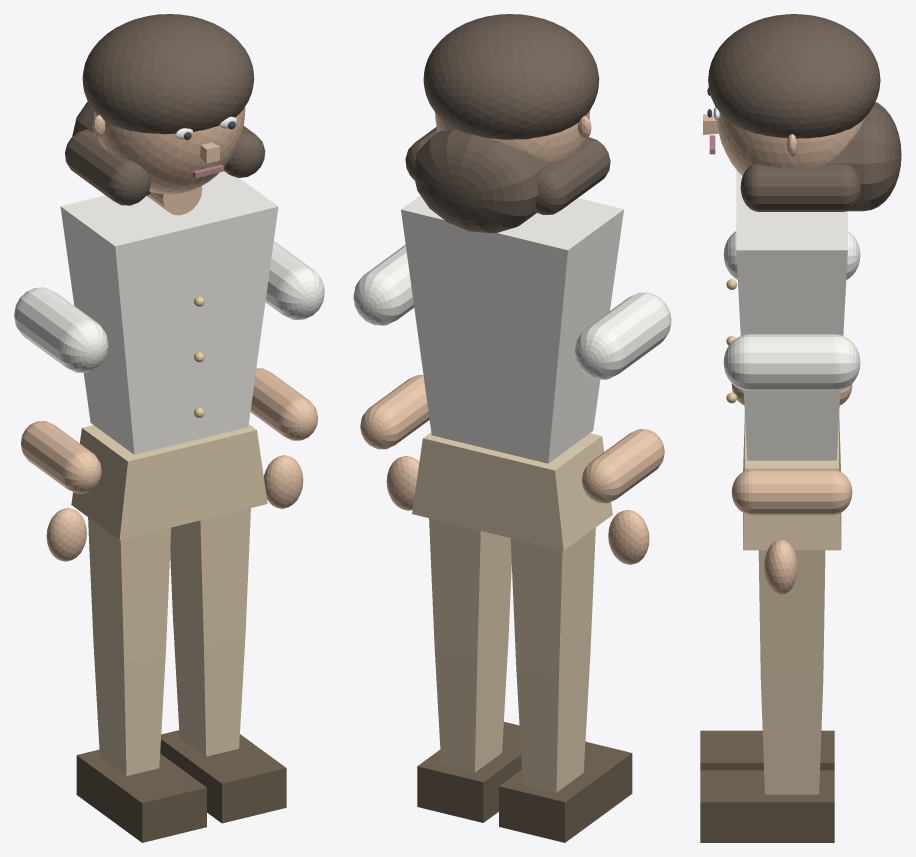
The model's file is npc_exec_female.glb.
The picture shows the model from 3 angles, left to right: view 1: azimuth 30°, elevation 25°; view 2: azimuth 150°, elevation 25°; view 3: azimuth 270°, elevation 25°; orthographic projection. The views are drawn at different scales.
Visible parts, largest first — view 1: Torso, Hair, Hips, Thigh_L, Thigh_R, Shoe_L, Calf_L, Calf_R, Shoe_R, Head, Arm_L_Mesh, Forearm_L_Mesh (+7 smaller); view 2: Torso, Hair, Hips, HairBack, Thigh_L, Thigh_R, Calf_R, Calf_L, Shoe_L, Arm_L_Mesh, Shoe_R, Forearm_L_Mesh (+6 smaller); view 3: Torso, Hair, Shoe_R, Thigh_R, Arm_R_Mesh, Calf_R, HairSideR, Forearm_R_Mesh, Hips, HairBack, Head, Shoe_L (+2 smaller).
Part boxes in pixels (x1,y1,x2,y2): Torso: [60, 171, 278, 454]; Hair: [82, 14, 254, 134]; Hips: [71, 424, 267, 539]; Thigh_L: [88, 517, 171, 663]; Thigh_R: [170, 508, 250, 643]; Shoe_L: [76, 749, 206, 842]; Calf_L: [93, 641, 165, 775]; Calf_R: [173, 622, 245, 756]; Shoe_R: [160, 730, 286, 823]; Head: [94, 107, 245, 194]; Arm_L_Mesh: [14, 287, 108, 372]; Forearm_L_Mesh: [21, 421, 101, 493]; Torso: [401, 195, 623, 463]; Hair: [423, 14, 599, 139]; Hips: [412, 432, 612, 550]; HairBack: [413, 130, 551, 233]; Thigh_L: [510, 527, 595, 677]; Thigh_R: [429, 518, 511, 657]; Calf_R: [434, 635, 508, 772]; Calf_L: [516, 655, 590, 792]; Shoe_L: [499, 741, 632, 842]; Arm_L_Mesh: [575, 292, 671, 379]; Shoe_R: [417, 722, 521, 822]; Forearm_L_Mesh: [582, 429, 664, 503]; Torso: [736, 170, 847, 460]; Hair: [708, 14, 880, 138]; Shoe_R: [700, 770, 834, 842]; Thigh_R: [758, 550, 825, 679]; Arm_R_Mesh: [723, 334, 860, 390]; Calf_R: [760, 679, 823, 794]; HairSideR: [740, 164, 861, 211]; Forearm_R_Mesh: [731, 469, 852, 515]; Hips: [743, 414, 841, 550]; HairBack: [826, 102, 901, 211]; Head: [716, 114, 865, 175]; Shoe_L: [700, 730, 834, 770].
Size of the model in its own units: 0.6916 by 1.93 by 0.45.
